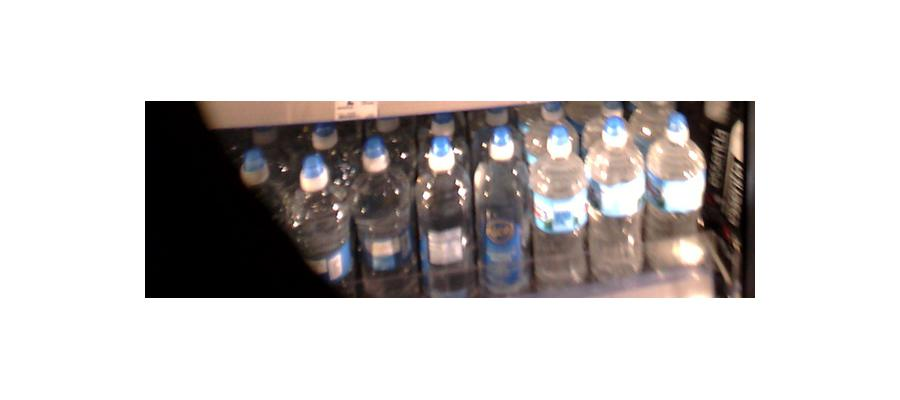bottle: (642, 108, 708, 293), (347, 139, 413, 294), (473, 121, 529, 292), (532, 122, 591, 284), (415, 131, 471, 293), (589, 115, 643, 280), (288, 142, 349, 285)
